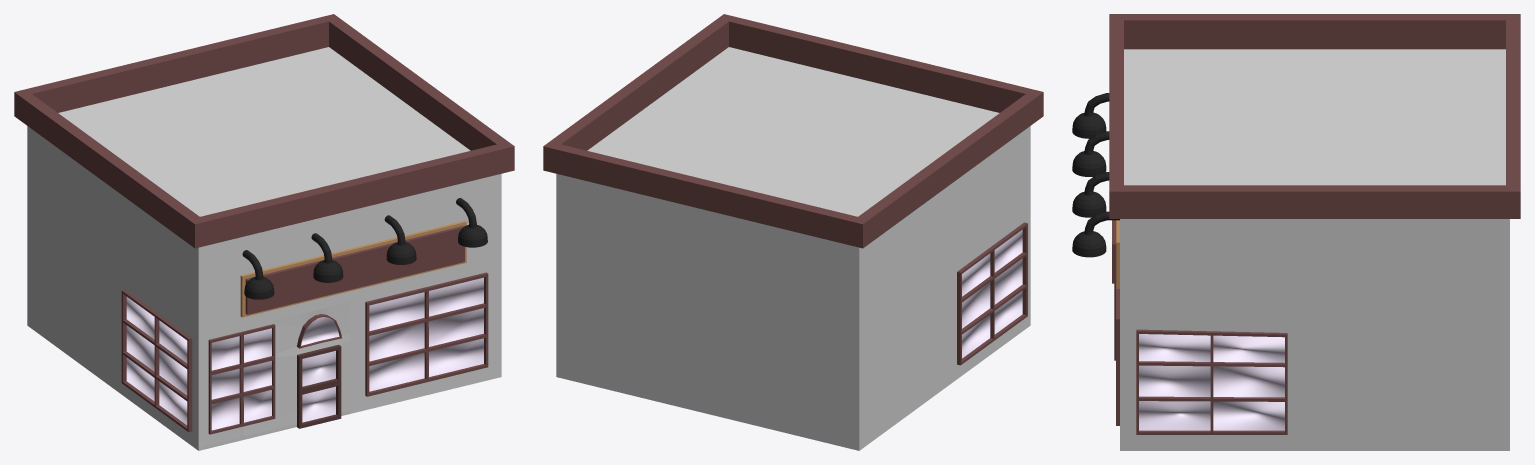
File: Cafe_Building.fbx
The picture shows the model from 3 angles, left to right: view 1: azimuth 30°, elevation 25°; view 2: azimuth 150°, elevation 25°; view 3: azimuth 270°, elevation 25°; orthographic projection. The views are drawn at different scales.
Visible parts, largest first — view 1: Plane.022; view 2: Plane.022; view 3: Plane.022.
Boxes of the visible parts, x1,y1,x2,y2 form: Plane.022: (14,14,514,450); Plane.022: (543,14,1043,450); Plane.022: (1072,14,1520,450).
Bounding box in the file's own units: 4286 × 2973 × 4576.
